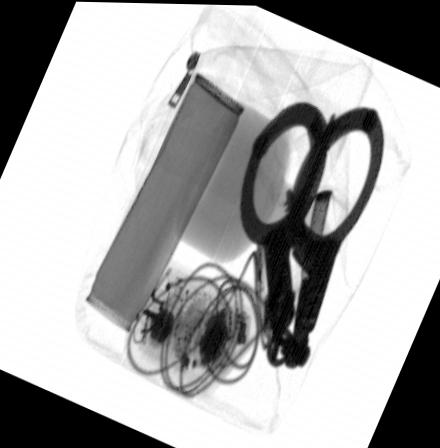Bullet: (296, 187, 330, 325)
HandCuffs: (236, 96, 385, 366)
